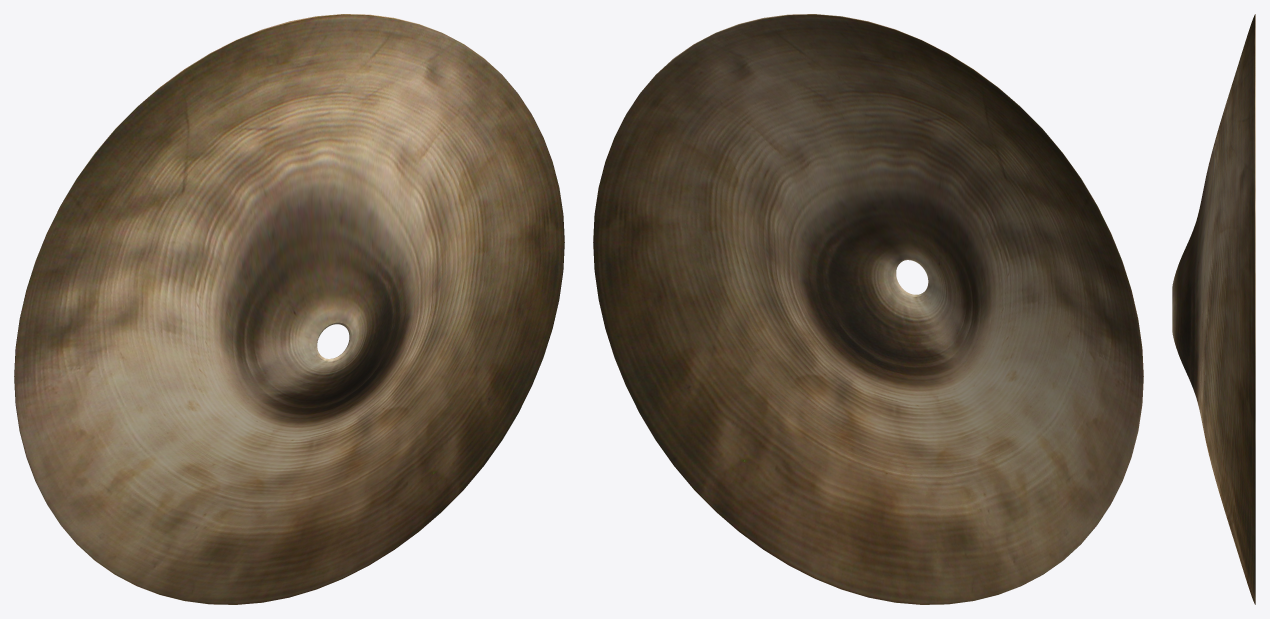
The model's file is 10375_Cymbal_v01_Iterations-2.obj.
The picture shows the model from 3 angles, left to right: view 1: azimuth 30°, elevation 25°; view 2: azimuth 150°, elevation 25°; view 3: azimuth 270°, elevation 25°; orthographic projection. The views are drawn at different scales.
Parts seen in each view (by area): view 1: 10375_Cymbal; view 2: 10375_Cymbal; view 3: 10375_Cymbal.
Boxes of the visible parts, box(x1,y1,x2,y2) form: 10375_Cymbal: box(14, 14, 564, 604); 10375_Cymbal: box(593, 14, 1143, 604); 10375_Cymbal: box(1172, 14, 1255, 604).
Size of the model in its own units: 334 by 334 by 47.04.
Materials: 1 (1 with a texture image).
